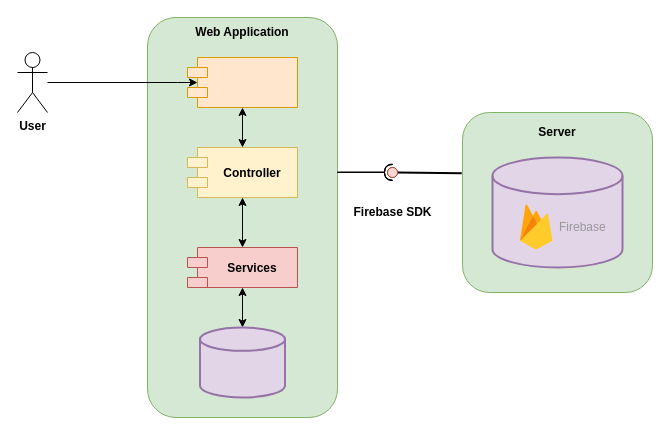
Some shapes in this 670 by 435 pixel diagram are drawn without their labels. Here are the shapes that lost their labels. From the top down, the centre of each, then its label:
At pixel 242 82: "GUI(HTML file)".
At pixel 242 362: "Local storage".
